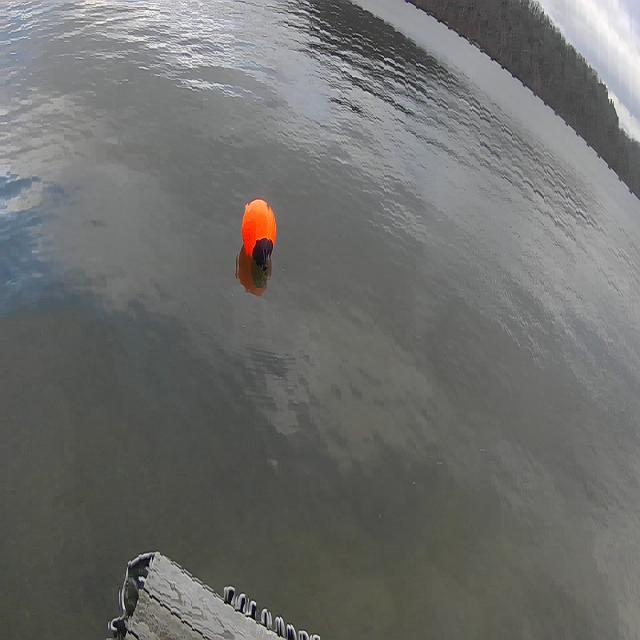Buoy: (234, 188, 288, 273)
